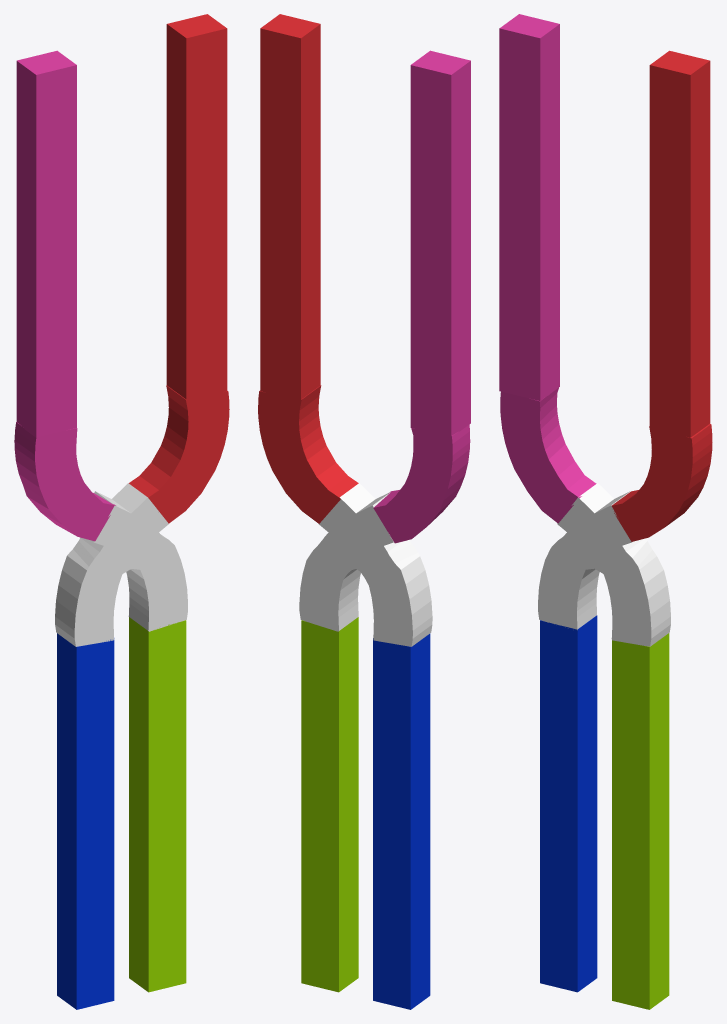
The model's file is Col Bridge Obst 2.0.fbx.
3 renders of one model, left to right at view 1: azimuth 30°, elevation 25°; view 2: azimuth 150°, elevation 25°; view 3: azimuth 330°, elevation 25°, orthographic.
Parts seen in each view (by area): view 1: Cube.002; view 2: Cube.002; view 3: Cube.002.
Part boxes in pixels (x1,y1,x2,y2): Cube.002: [14, 14, 229, 1009]; Cube.002: [258, 14, 470, 1009]; Cube.002: [499, 14, 712, 1009].
Bounding box in the file's own units: 64145 × 296911 × 11795.
